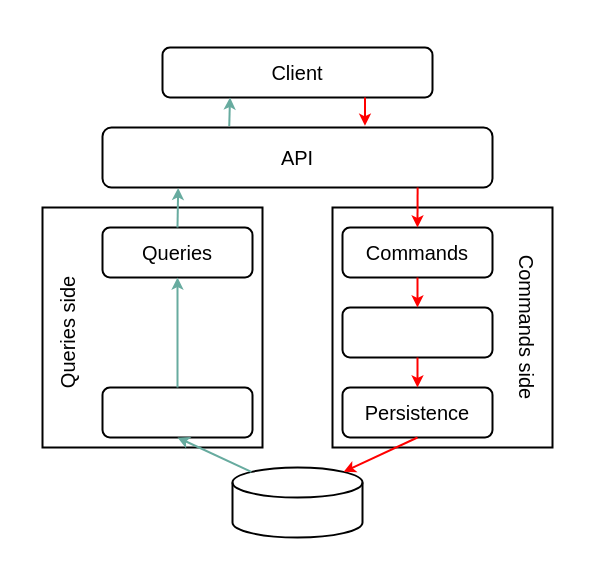
This 594x574 diagram has some shape labels left out. The centre of each missing label's shape, as x and y in pixels:
Data Access: the point at 177,412
Database: the point at 297,502
Domain: the point at 417,332
